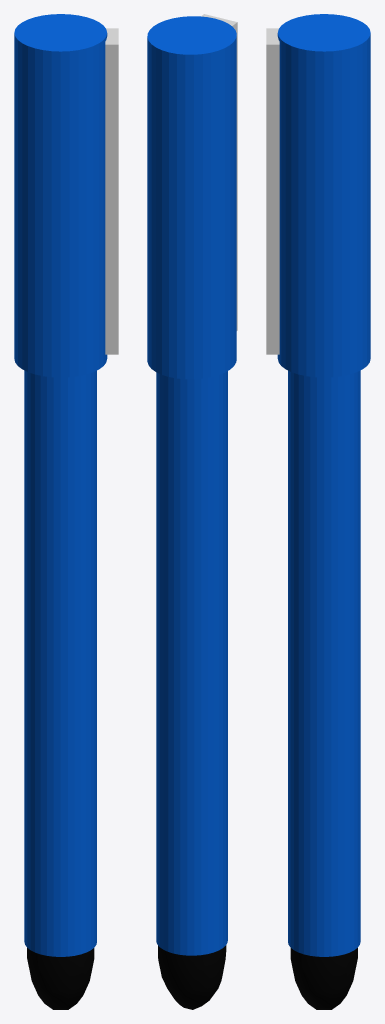
Rendered from pen.fbx.
The picture shows the model from 3 angles, left to right: view 1: azimuth 90°, elevation 25°; view 2: azimuth 150°, elevation 25°; view 3: azimuth 270°, elevation 25°; orthographic projection.
Parts seen in each view (by area): view 1: Cylinder, Cylinder.001, Cube, Mball; view 2: Cylinder, Cylinder.001, Mball, Cube; view 3: Cylinder, Cylinder.001, Cube, Mball.
Boxes of the visible parts, bbox=[...] form: Cylinder: bbox=[24, 370, 96, 956]; Cylinder.001: bbox=[14, 14, 107, 377]; Cube: bbox=[105, 28, 118, 354]; Mball: bbox=[27, 948, 94, 1009]; Cylinder: bbox=[156, 371, 227, 955]; Cylinder.001: bbox=[147, 16, 236, 379]; Mball: bbox=[158, 945, 226, 1009]; Cube: bbox=[201, 14, 237, 330]; Cylinder: bbox=[288, 370, 360, 956]; Cylinder.001: bbox=[277, 14, 370, 377]; Cube: bbox=[266, 28, 279, 354]; Mball: bbox=[290, 948, 357, 1009].
Bounding box in the file's own units: 142 × 1721 × 167.
